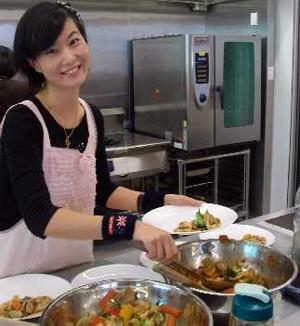person: (2, 4, 204, 272)
